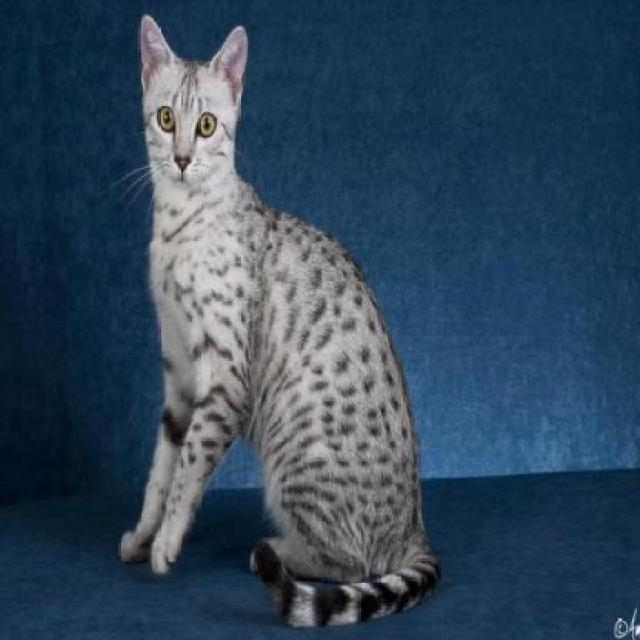cat: (117, 13, 440, 627)
